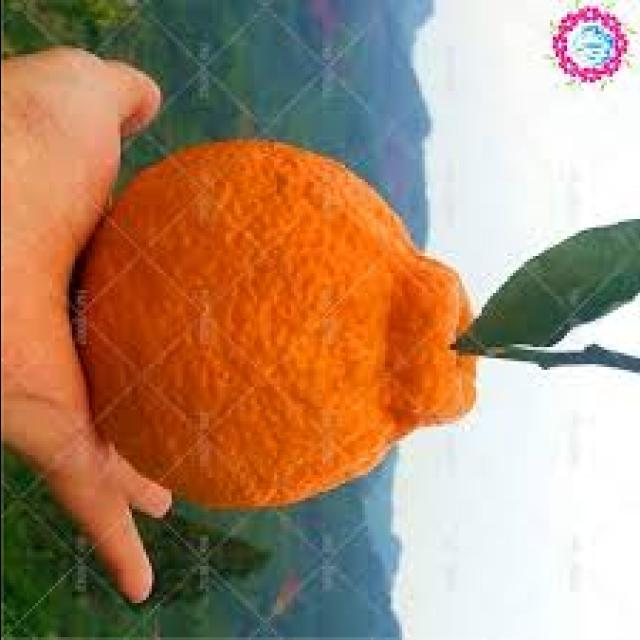orange: (77, 140, 471, 532)
